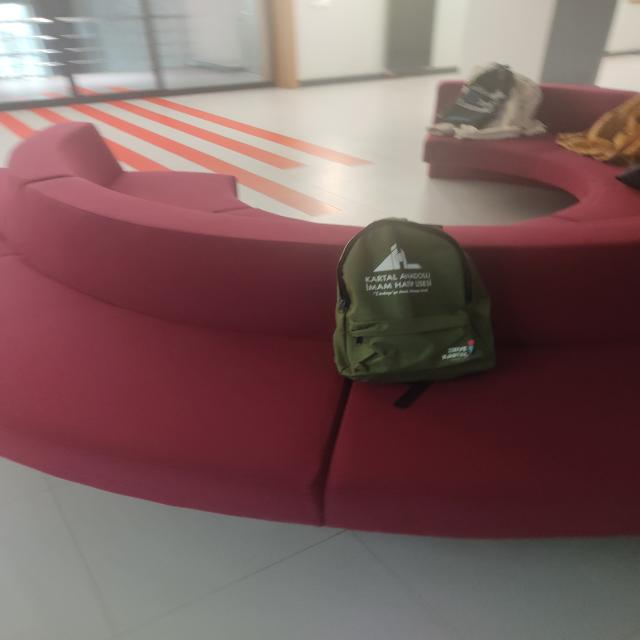bag: (321, 215, 532, 396)
